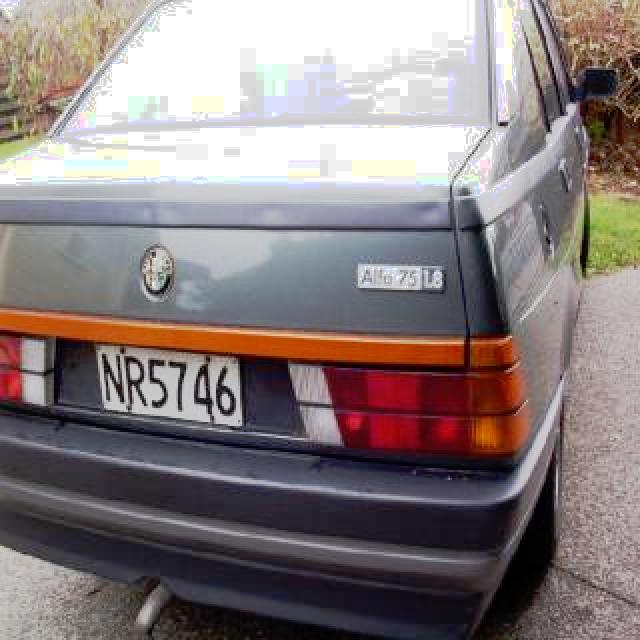license_plate: (97, 344, 243, 425)
